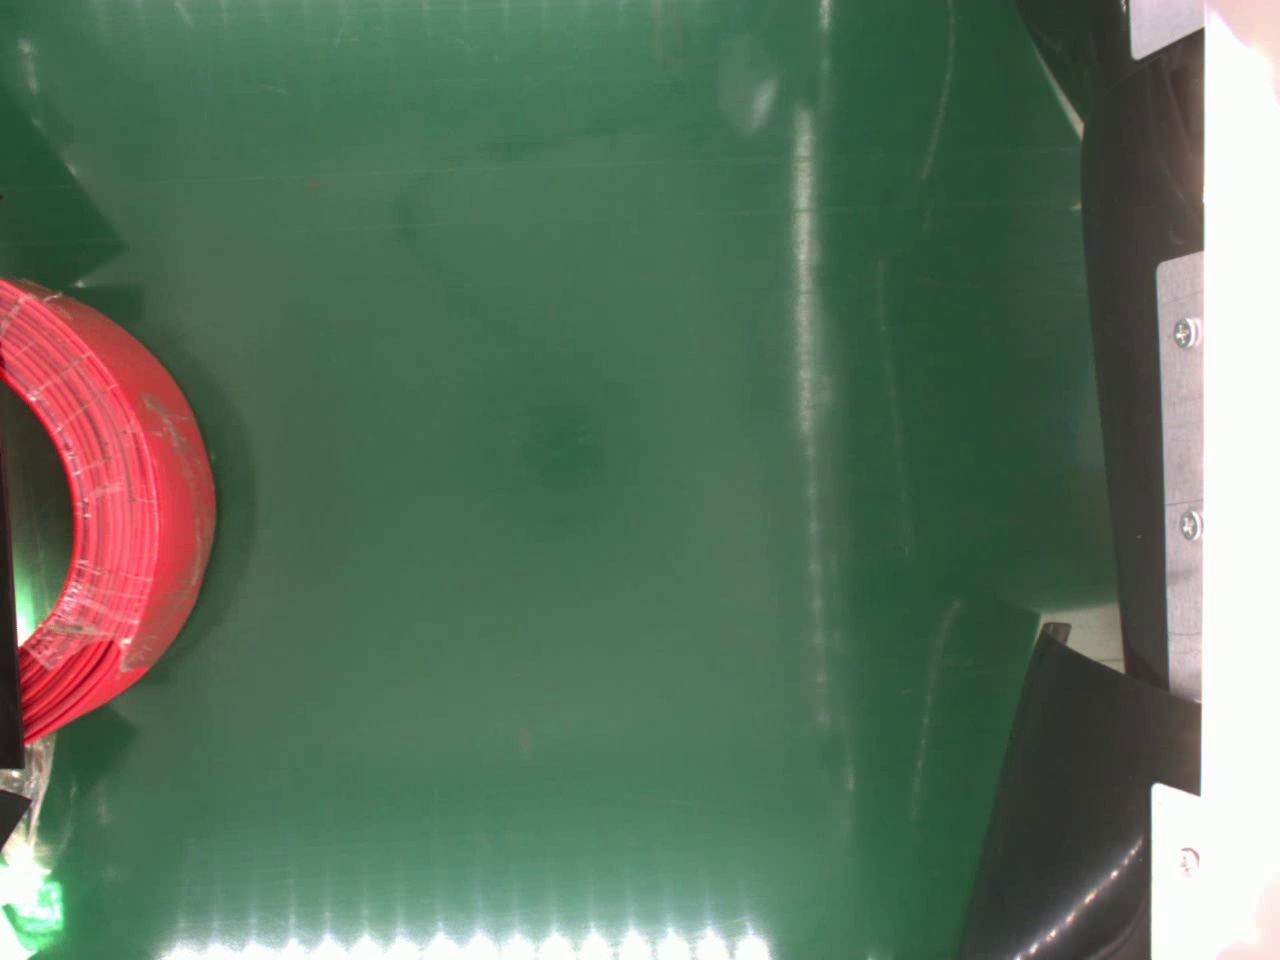red: (0, 270, 215, 746)
